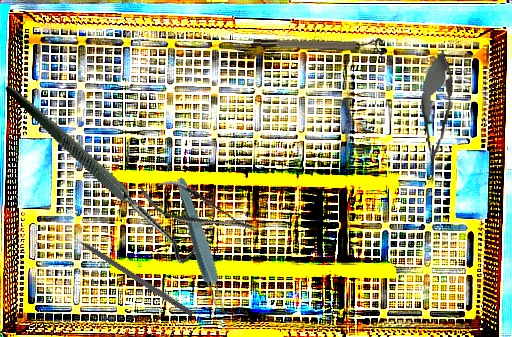Fixation Ring: (253, 31, 383, 56)
Hook Surgical: (4, 41, 210, 300), (64, 228, 195, 317)
Micro Scissor: (133, 169, 262, 249), (415, 49, 457, 185)
Tissue Forceps: (171, 175, 230, 315)
